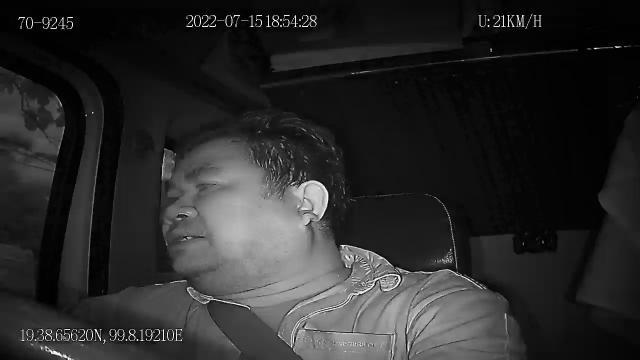SafeDriving: (188, 170, 232, 200)
Seatbelt: (206, 298, 306, 360)
